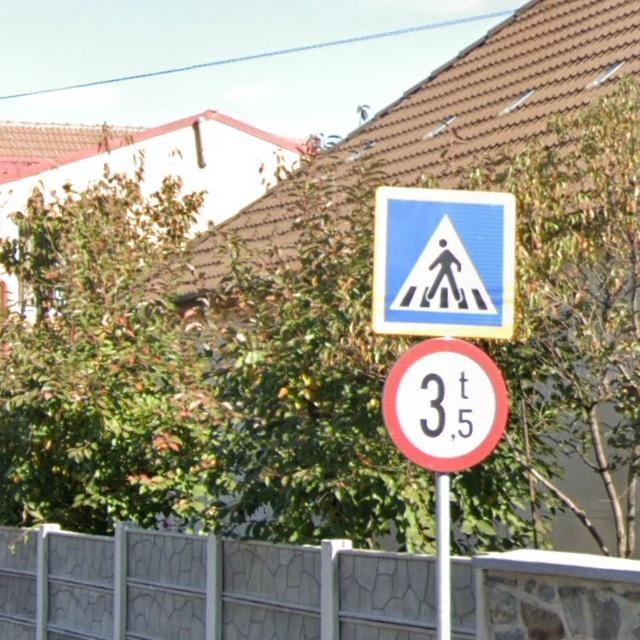info_crosswalk: (374, 184, 518, 341)
